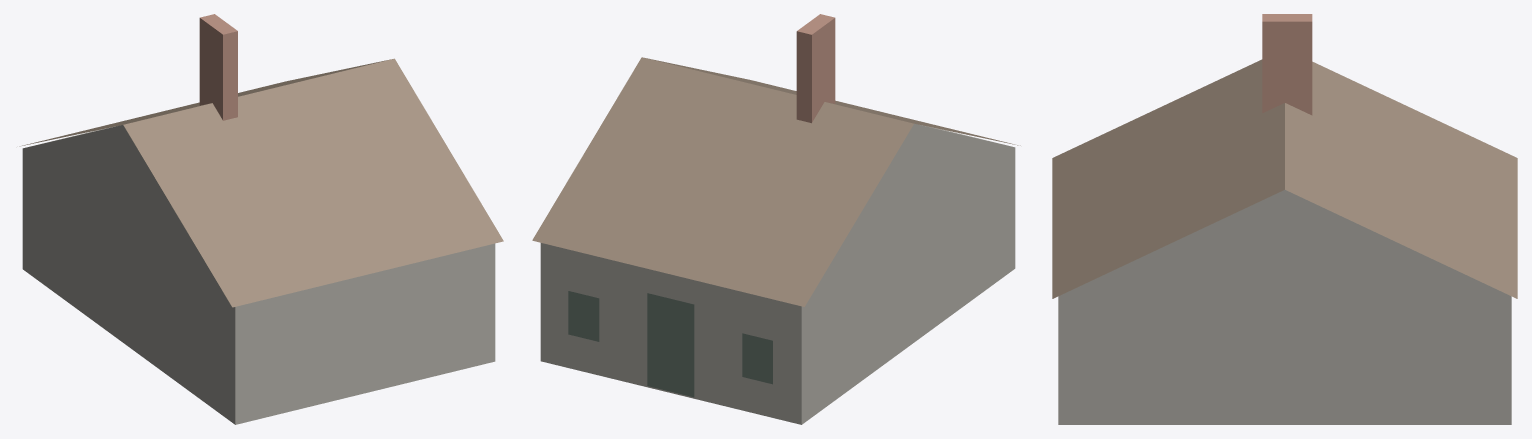
The model's file is recon_1835_south_d5_028__recommended_1835.glb.
The picture shows the model from 3 angles, left to right: view 1: azimuth 30°, elevation 25°; view 2: azimuth 150°, elevation 25°; view 3: azimuth 270°, elevation 25°; orthographic projection. The views are drawn at different scales.
Parts seen in each view (by area): view 1: recon_1835_south_d5_028__recommended_1835; view 2: recon_1835_south_d5_028__recommended_1835; view 3: recon_1835_south_d5_028__recommended_1835.
Part boxes in pixels (bbox=[...]): recon_1835_south_d5_028__recommended_1835: bbox=[19, 14, 503, 424]; recon_1835_south_d5_028__recommended_1835: bbox=[532, 14, 1020, 424]; recon_1835_south_d5_028__recommended_1835: bbox=[1052, 14, 1517, 424].
Bounding box in the file's own units: 6.53 × 6.89 × 9.1.
